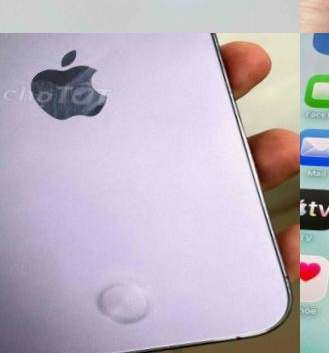physical_damage: (91, 274, 156, 332)
